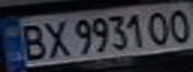1: (124, 11, 148, 48)
3: (109, 12, 130, 52)
9: (69, 15, 93, 56), (90, 14, 112, 54)
B: (15, 20, 51, 62)
O: (163, 6, 193, 44), (145, 8, 172, 46)
X: (39, 17, 72, 60)
